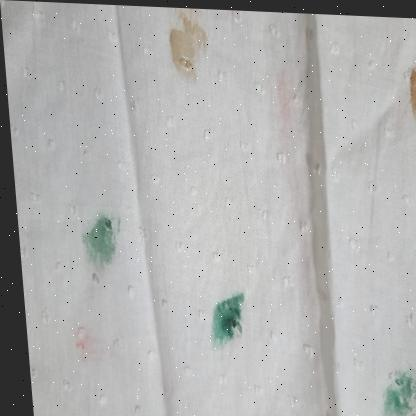spot: (165, 6, 215, 80), (74, 209, 120, 269), (371, 361, 416, 416), (203, 288, 246, 345), (273, 63, 295, 132), (68, 332, 102, 368), (404, 62, 416, 130)
